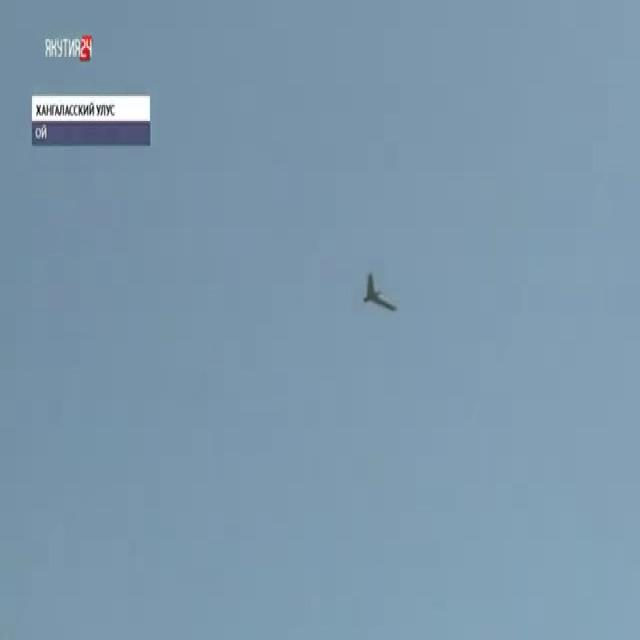drone: (360, 261, 403, 323)
